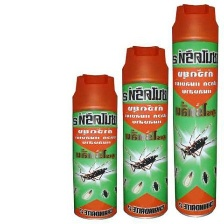aerosol_cans: (168, 2, 220, 221), (119, 41, 173, 220), (69, 71, 121, 223)
